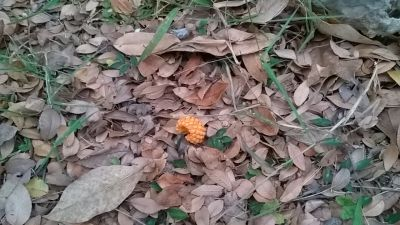eggs: (175, 113, 208, 146)
